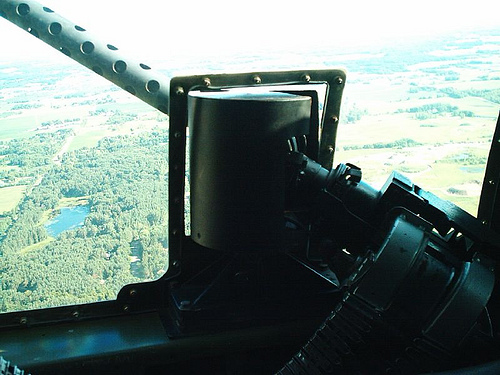rifle: (14, 5, 474, 314)
